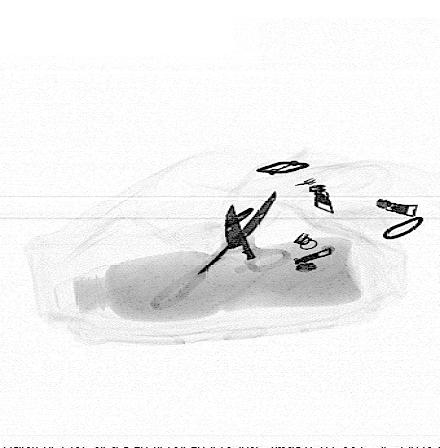Scissors: (149, 189, 291, 311)
